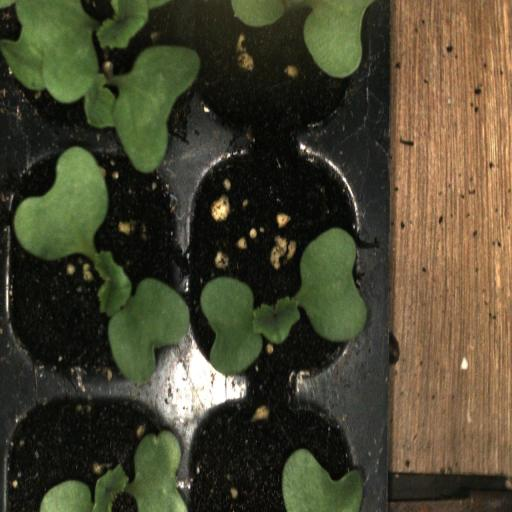seedling: (178, 143, 364, 391), (2, 146, 176, 388), (4, 391, 180, 512)
twoseedling: (12, 0, 191, 146)
